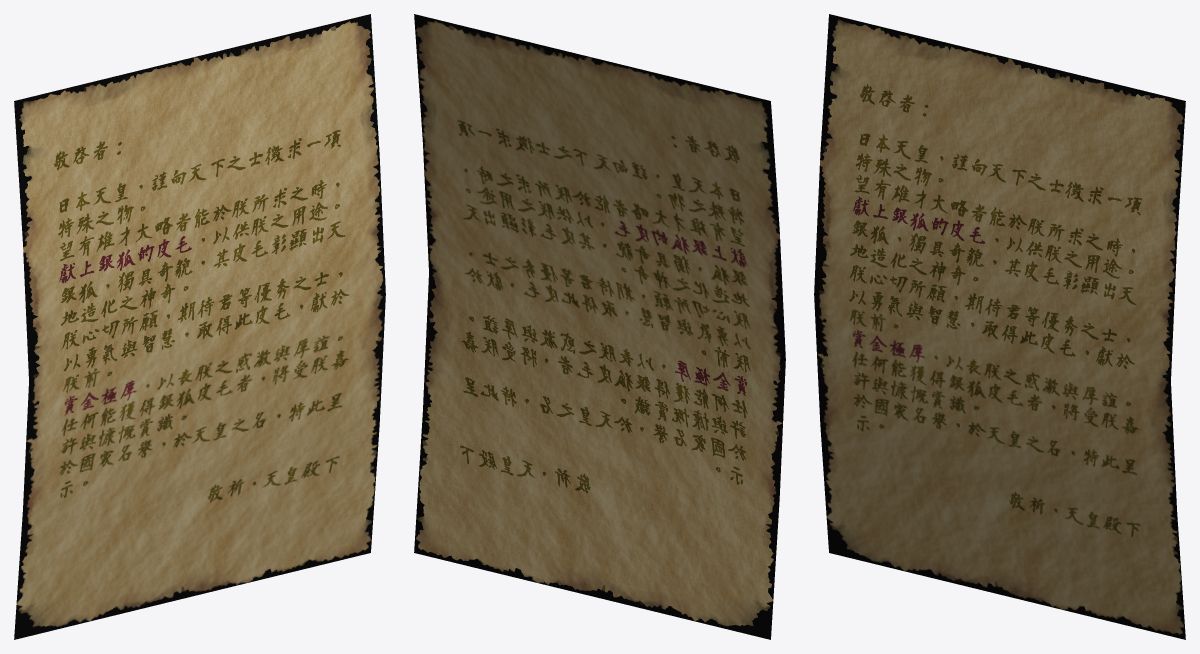
Rendered from bounty_big.fbx.
3 renders of one model, left to right at view 1: azimuth 30°, elevation 25°; view 2: azimuth 150°, elevation 25°; view 3: azimuth 330°, elevation 25°, orthographic.
Visible parts, largest first — view 1: Plane001; view 2: Plane001; view 3: Plane001.
Boxes of the visible parts, x1,y1,x2,y2 form: Plane001: (14,14,385,639); Plane001: (414,14,785,639); Plane001: (814,14,1185,639).
Bounding box in the file's own units: 298 × 431 × 21.68.
